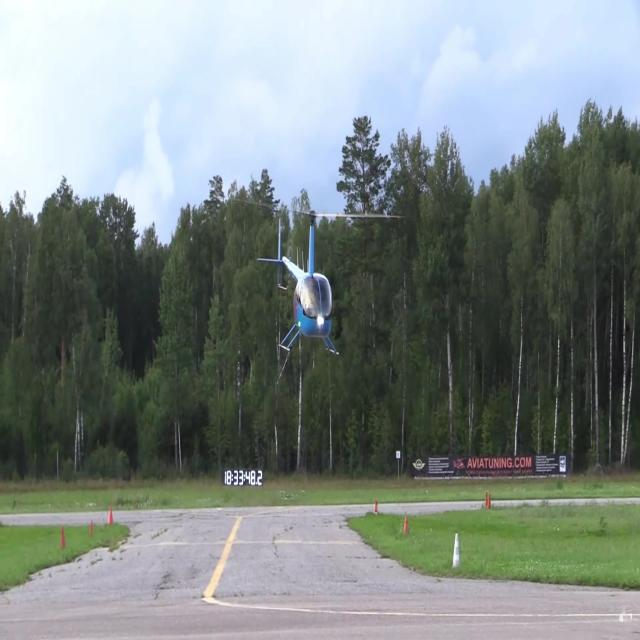CIV_HELO: (255, 210, 342, 362)
